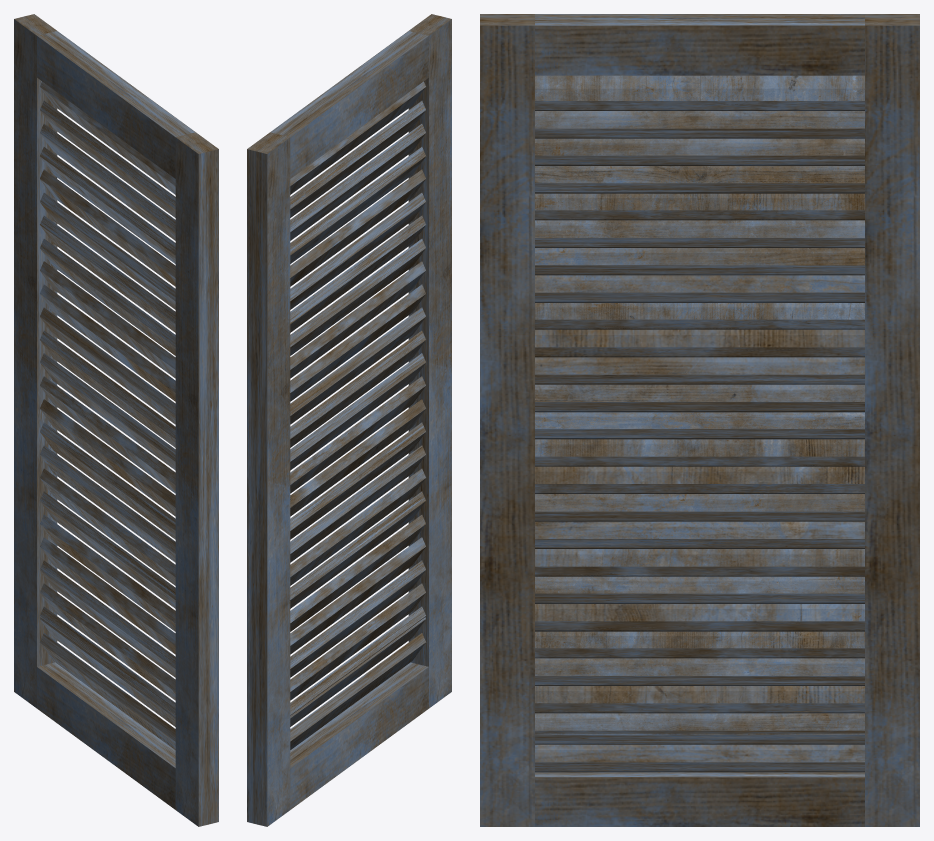
Rendered from unfinished_house_window_door.glb.
3 views of the same model, side by side, from view 1: azimuth 30°, elevation 25°; view 2: azimuth 150°, elevation 25°; view 3: azimuth 270°, elevation 25° (orthographic). The views are drawn at different scales.
Visible parts, largest first — view 1: Plane.214; view 2: Plane.214; view 3: Plane.214.
Part boxes in pixels (left/top/right/bottom): Plane.214: left=14, top=14, right=218, bottom=826; Plane.214: left=247, top=14, right=451, bottom=826; Plane.214: left=480, top=14, right=919, bottom=826.
Bounding box in the file's own units: 0.0349 × 1.1 × 0.5495.
Materials: 1 (1 with a texture image).
